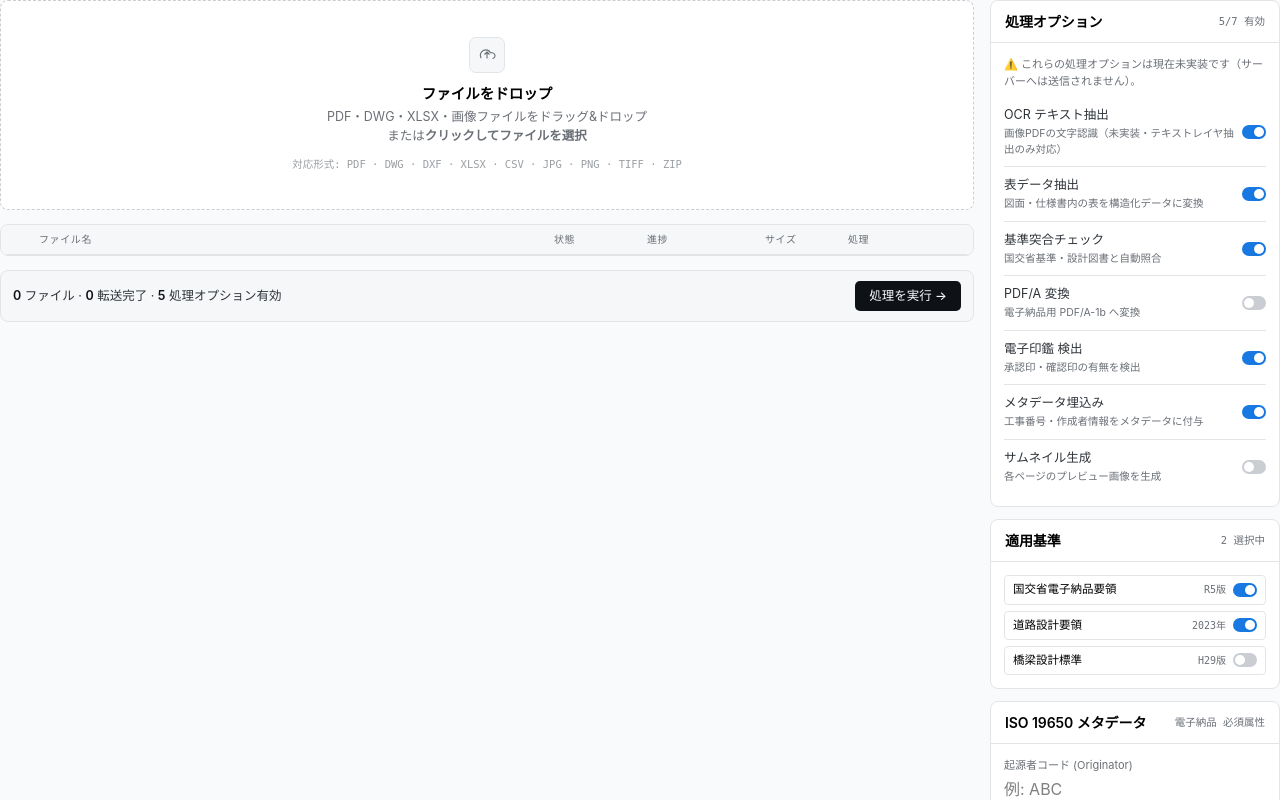
Test: UploadView › toggles a processing option and updates the enabled count
Expected: the text "5/7 有効" is shown, x1=1219 y1=14 x2=1265 y2=29
Click the switch named "OCR テキスト抽出" at (1254, 132), box x1=1242 y1=125 x2=1266 y2=139
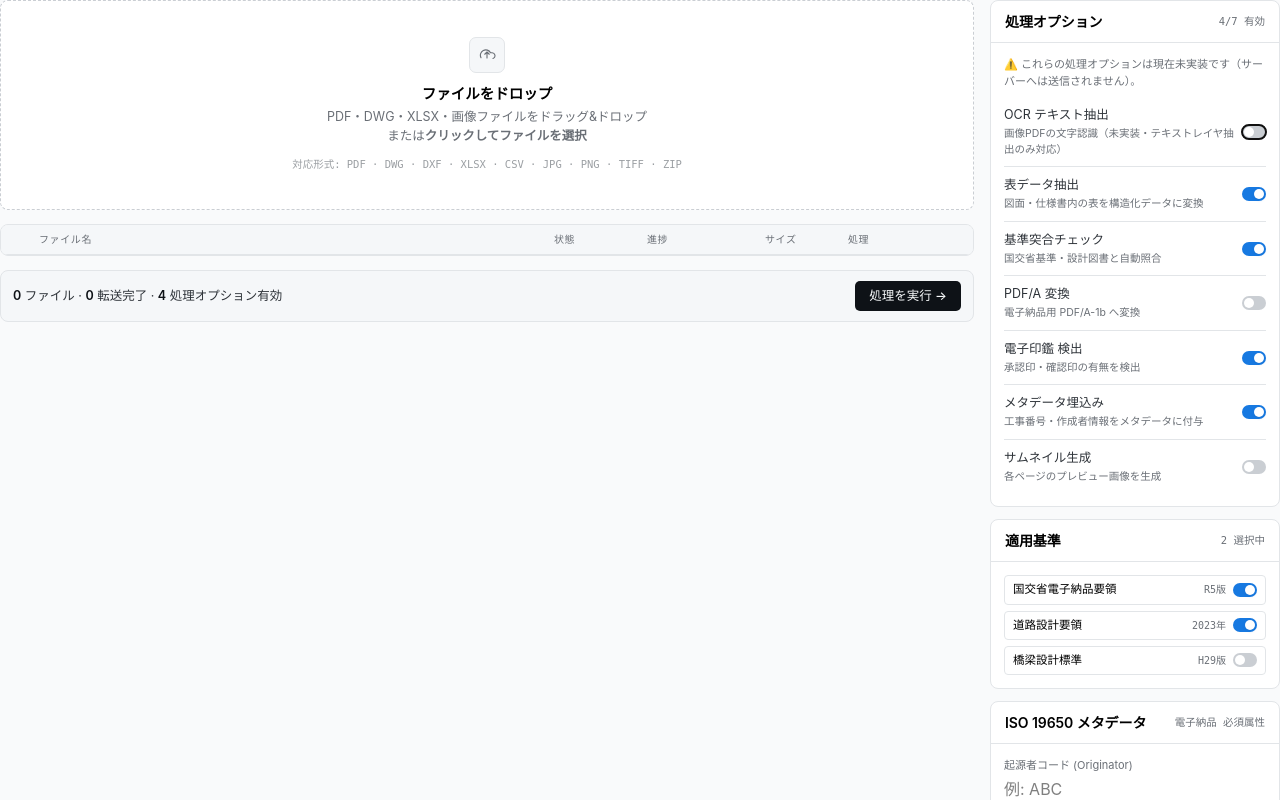
Now the text "4/7 有効" is shown, box x1=1219 y1=14 x2=1265 y2=29
